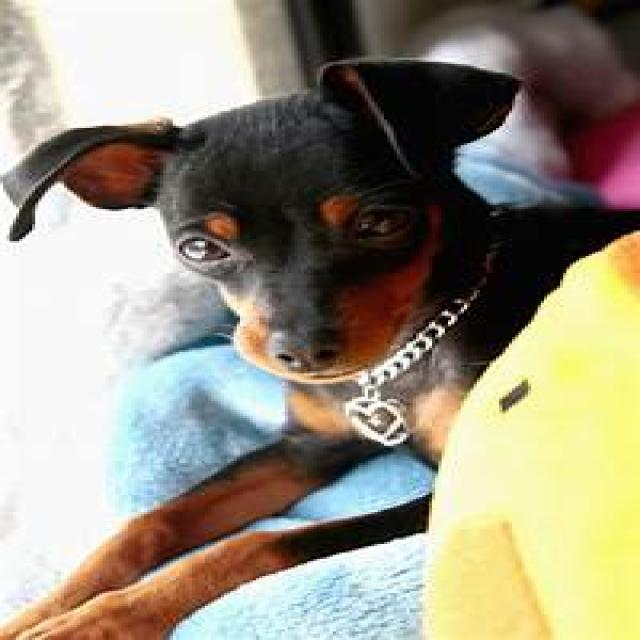dog: (4, 60, 632, 640)
